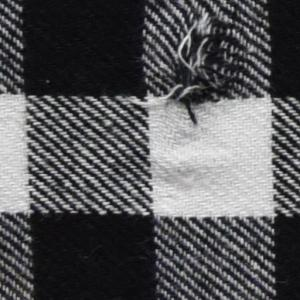Damage: (126, 17, 254, 129)
